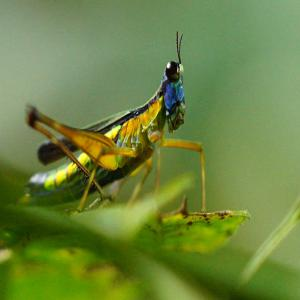locust: (25, 22, 211, 239)
